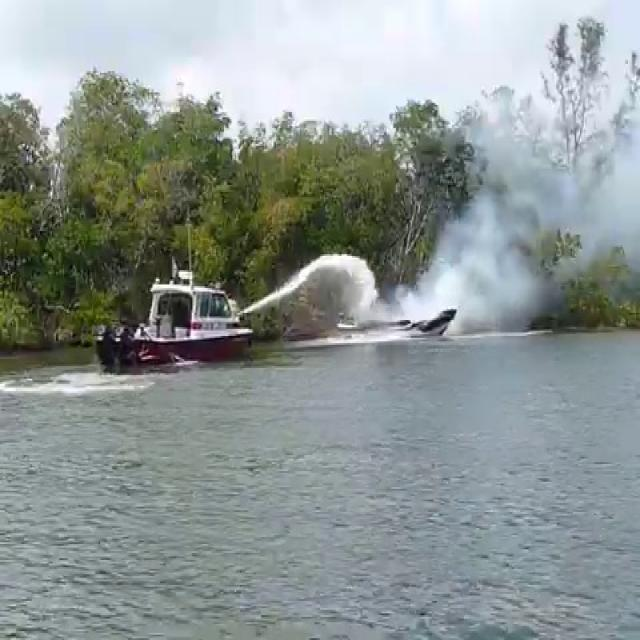Smoke: (370, 21, 640, 343)
